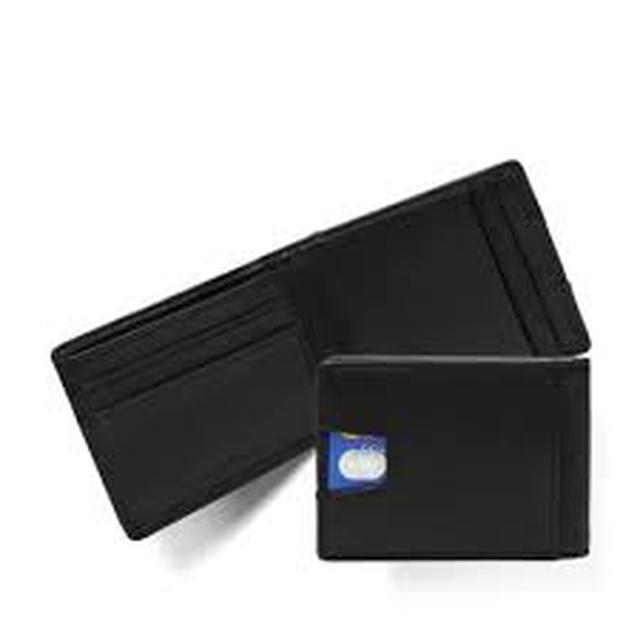wallet: (36, 128, 614, 566), (282, 347, 631, 583)
